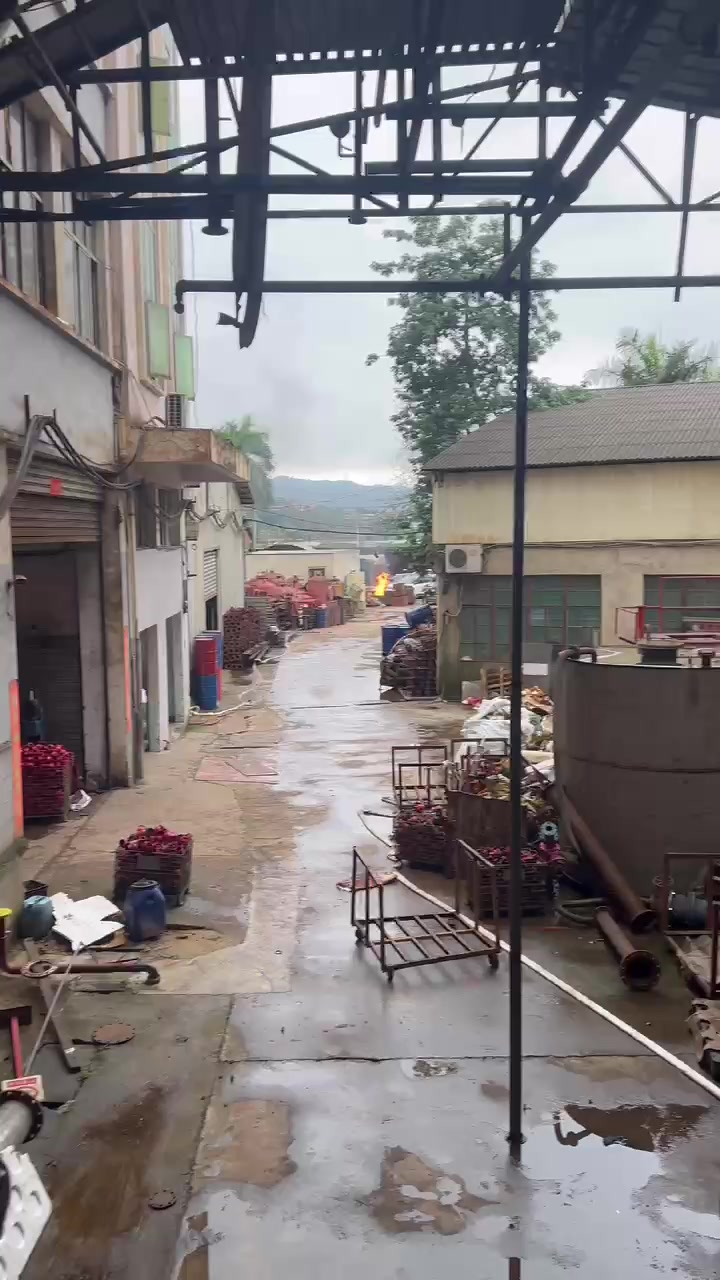fire: (372, 571, 389, 594)
